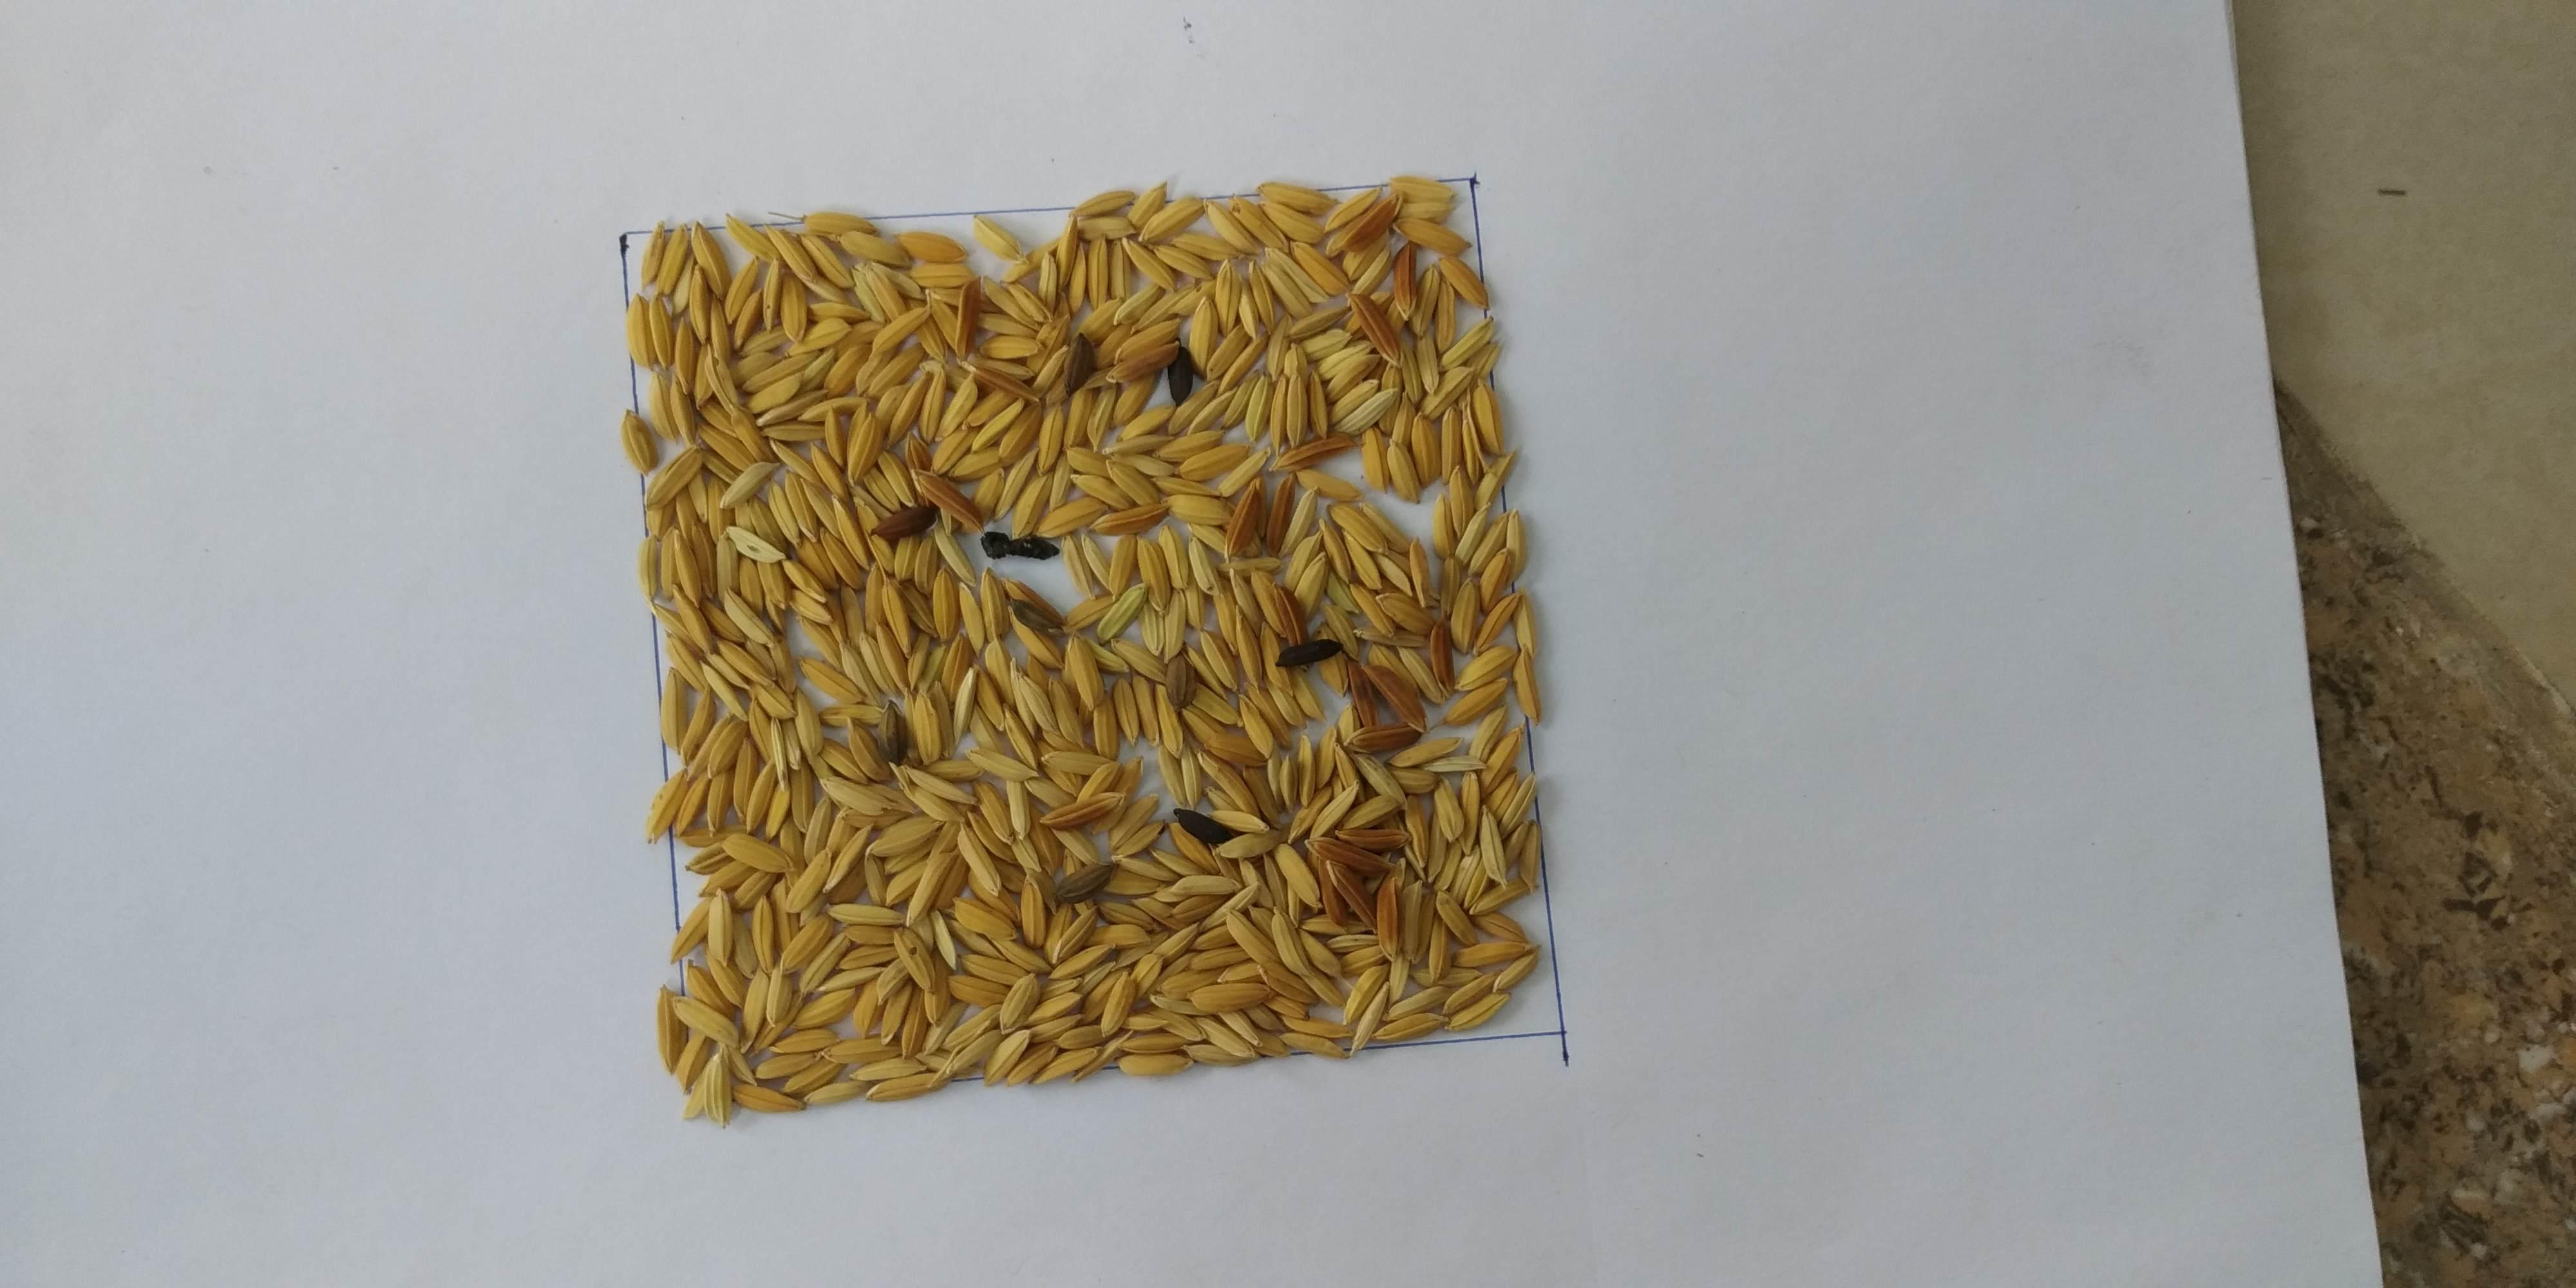Partialimpure: (697, 230, 1503, 999)
